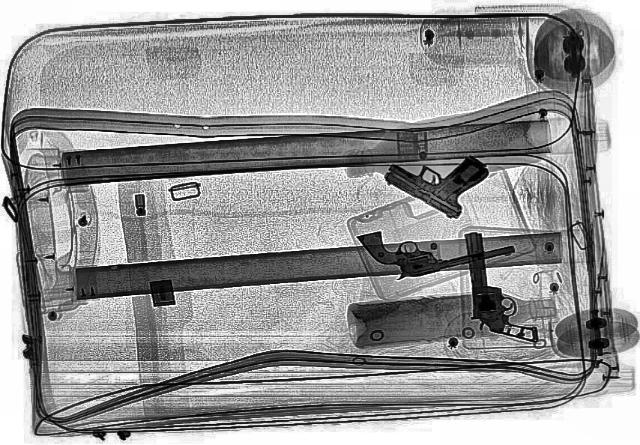Gun: (370, 131, 514, 221), (354, 207, 518, 283), (464, 229, 538, 345)
